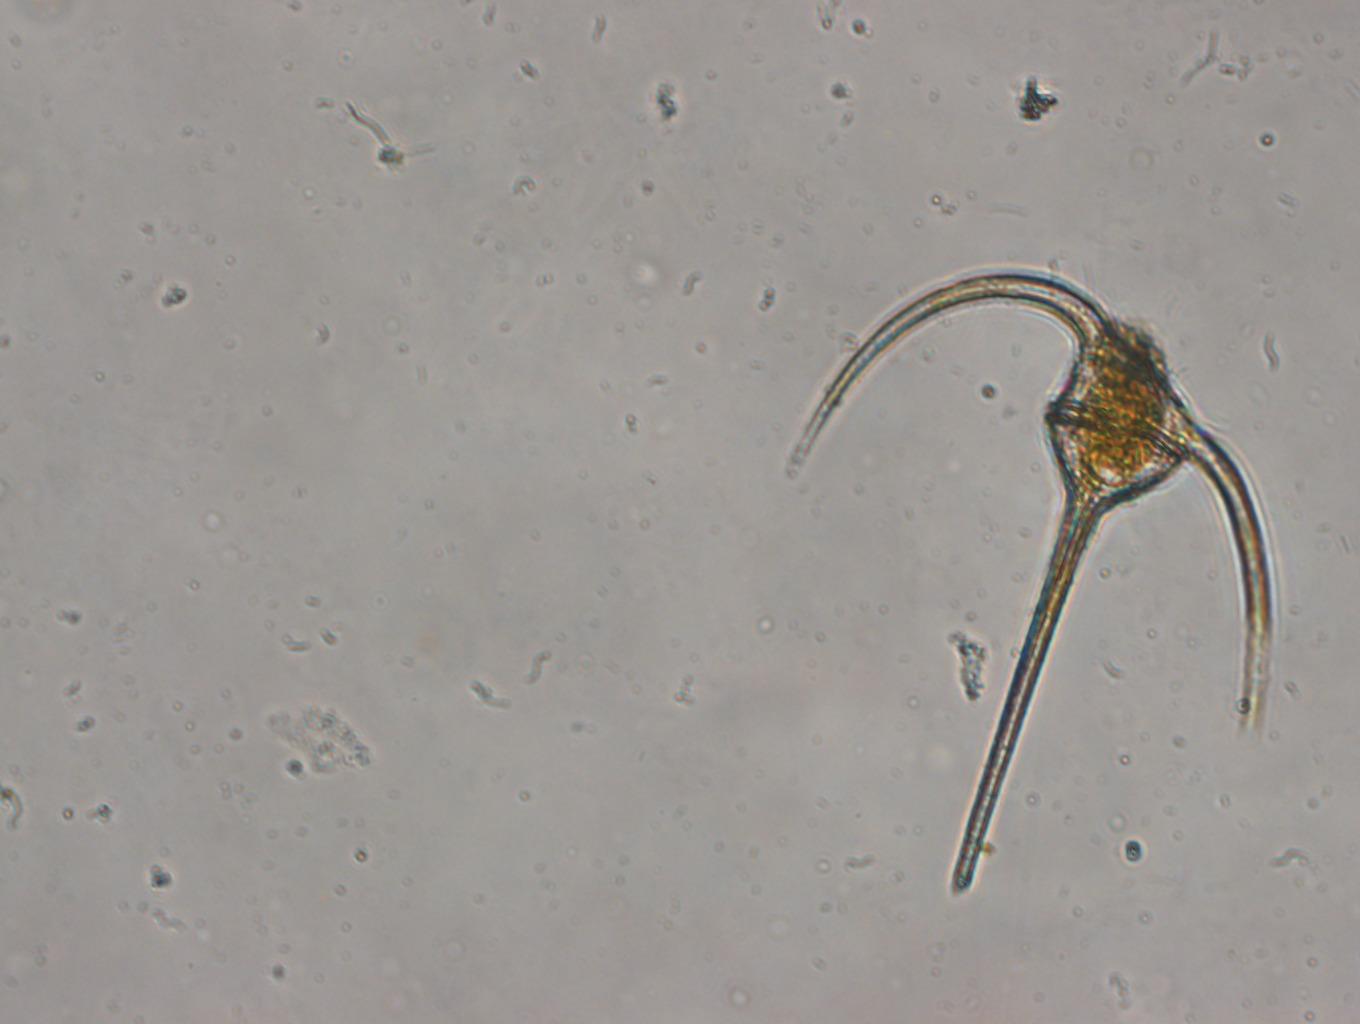ceratium trichoceros: (782, 245, 1282, 896)
